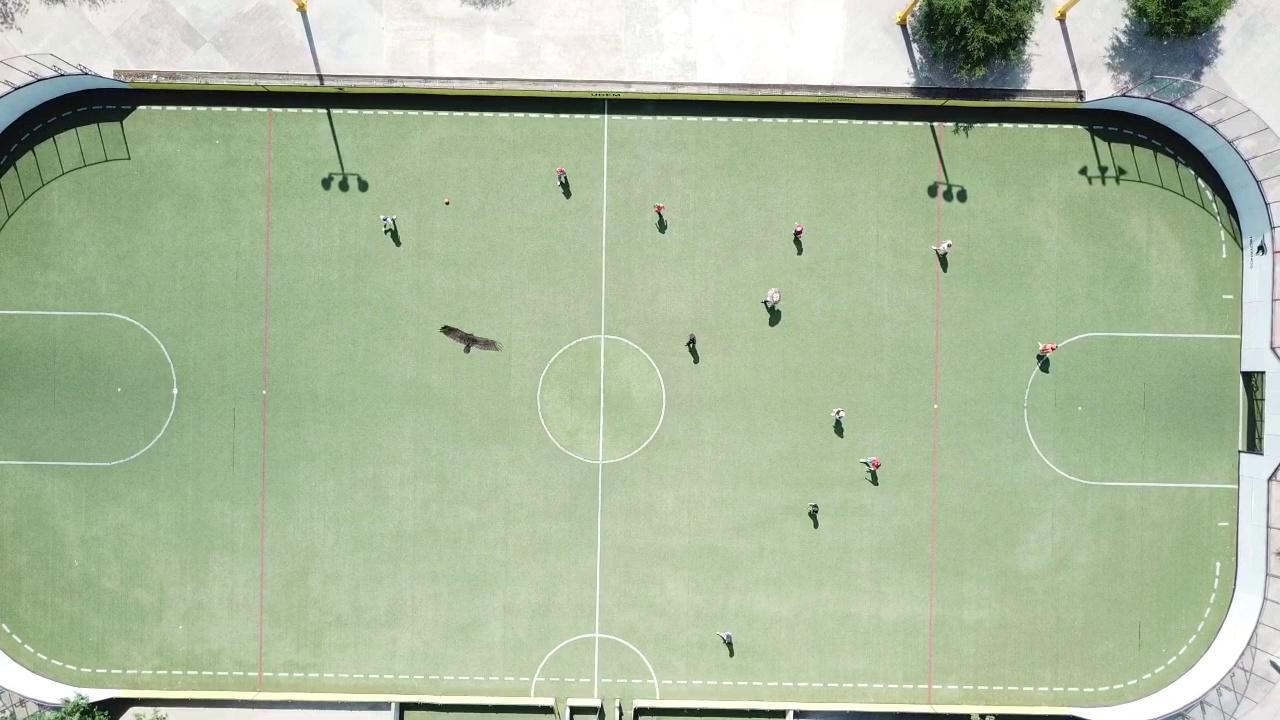ball: (444, 198, 450, 204)
player: (762, 288, 783, 306), (932, 239, 952, 256), (859, 457, 881, 472), (380, 215, 397, 234), (1037, 341, 1058, 354), (555, 167, 566, 187), (831, 407, 846, 421), (686, 333, 697, 351), (716, 632, 731, 644), (653, 203, 665, 217), (793, 222, 803, 238), (807, 503, 819, 515)
